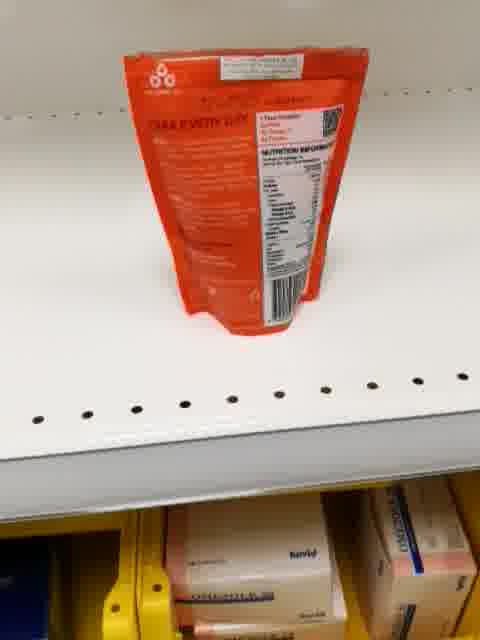whitechia: (117, 43, 379, 338)
